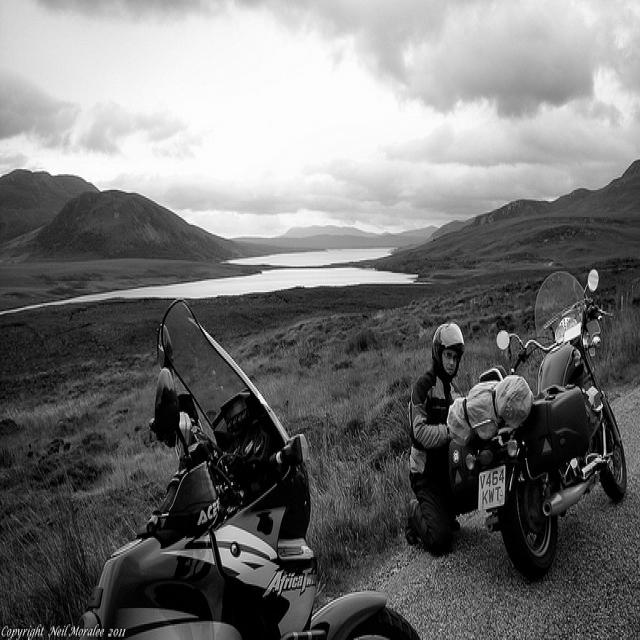motor: (86, 291, 422, 633), (470, 267, 634, 583)
